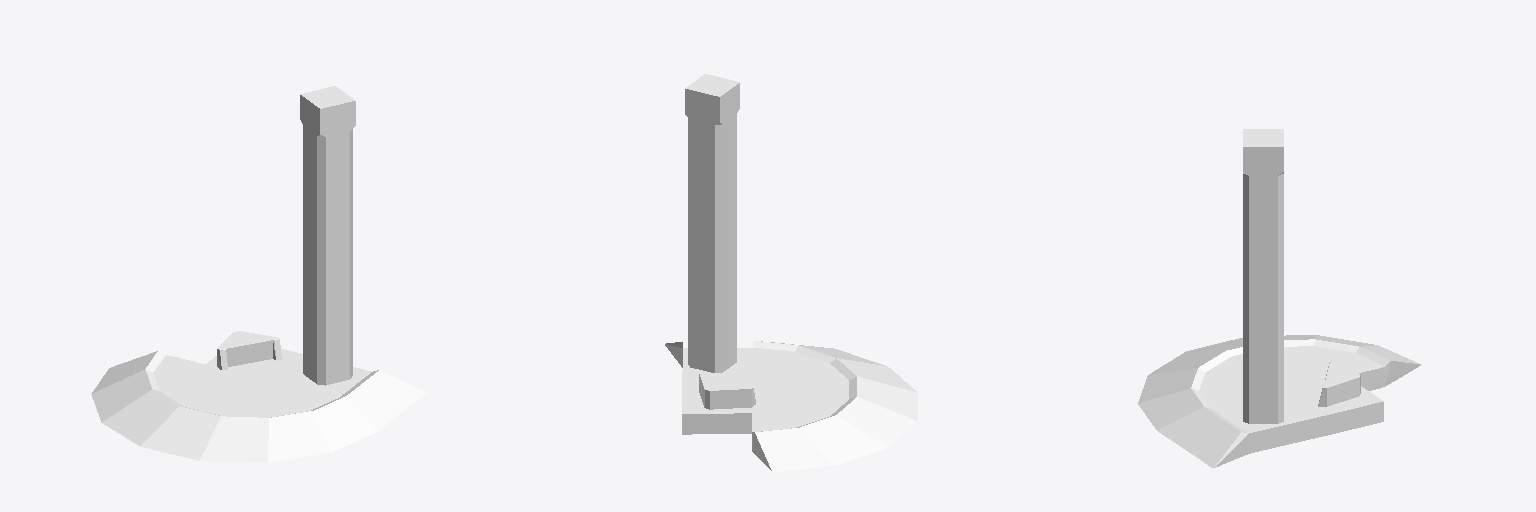
The model's file is IKB_clock.obj.
3 views of the same model, side by side, from view 1: azimuth 30°, elevation 25°; view 2: azimuth 150°, elevation 25°; view 3: azimuth 270°, elevation 25° (orthographic).
Parts seen in each view (by area): view 1: pCylinder5_Mesh.001, pCube2_Mesh.001, pCylinder6_Mesh.001; view 2: pCylinder5_Mesh.001, pCube2_Mesh.001, pCylinder6_Mesh.001; view 3: pCylinder5_Mesh.001, pCube2_Mesh.001, pCylinder6_Mesh.001.
Boxes of the visible parts, box(x1,y1,x2,y2) form: pCylinder5_Mesh.001: box(91, 349, 426, 462); pCube2_Mesh.001: box(300, 86, 355, 385); pCylinder6_Mesh.001: box(217, 331, 281, 369); pCylinder5_Mesh.001: box(665, 341, 917, 471); pCube2_Mesh.001: box(685, 74, 739, 372); pCylinder6_Mesh.001: box(699, 371, 755, 409); pCylinder5_Mesh.001: box(1138, 335, 1421, 468); pCube2_Mesh.001: box(1243, 129, 1283, 423); pCylinder6_Mesh.001: box(1318, 360, 1360, 406).
Size of the model in its own units: 0.0158 by 0.0163 by 0.0141.